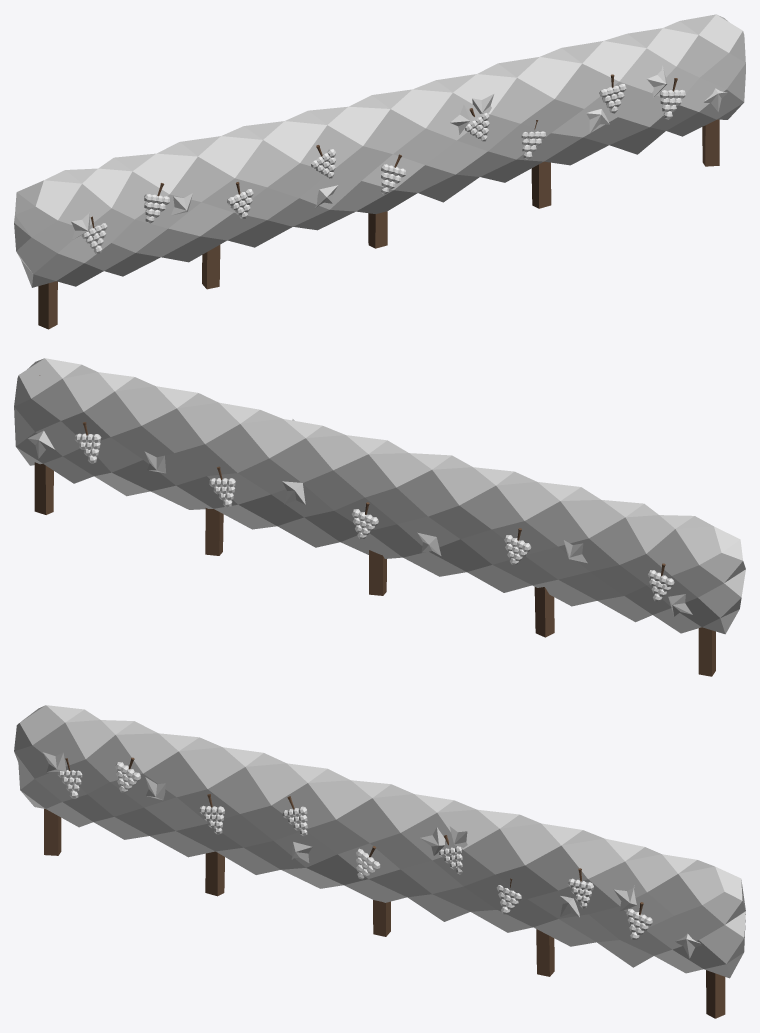
File: fence-vineyard04.fbx
3 views of the same model, one above another, from view 1: azimuth 30°, elevation 25°; view 2: azimuth 150°, elevation 25°; view 3: azimuth 330°, elevation 25° (orthographic).
Visible parts, largest first — view 1: fence-vineyard04; view 2: fence-vineyard04; view 3: fence-vineyard04.
Boxes of the visible parts, bbox=[...] form: fence-vineyard04: bbox=[14, 14, 745, 329]; fence-vineyard04: bbox=[14, 358, 745, 676]; fence-vineyard04: bbox=[14, 705, 745, 1018].
Bounding box in the file's own units: 11 × 1.03 × 2.17.
